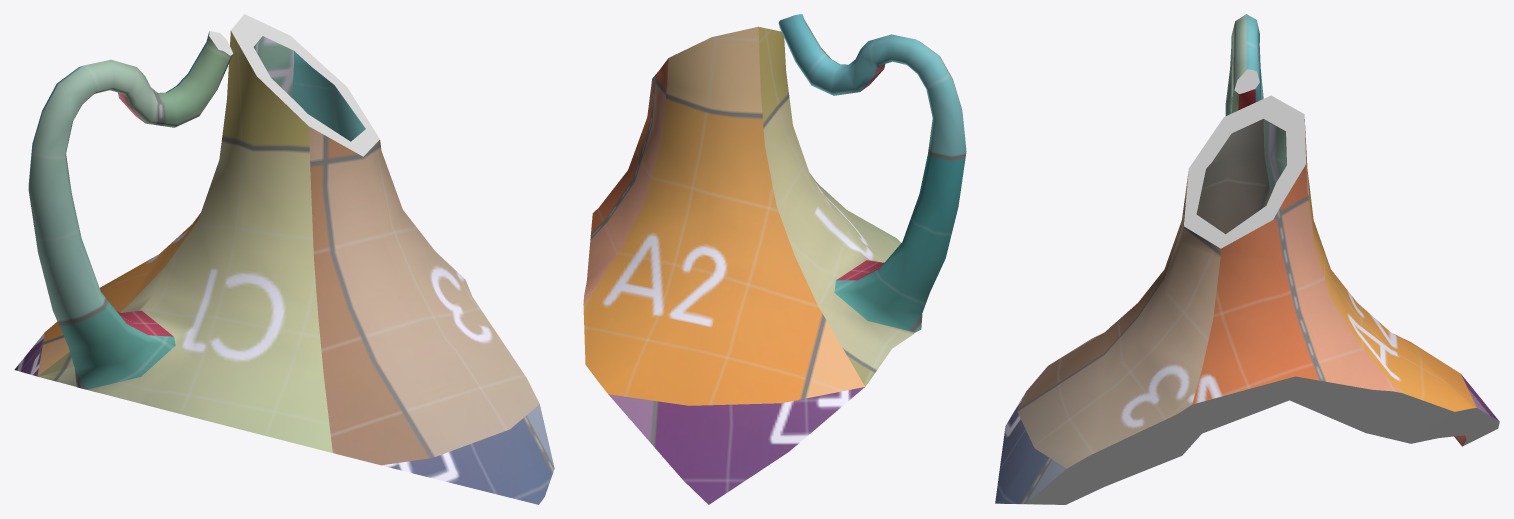
File: LongVase_SHAT_cell_009.fbx
3 views of the same model, side by side, from view 1: azimuth 30°, elevation 25°; view 2: azimuth 150°, elevation 25°; view 3: azimuth 270°, elevation 25° (orthographic). The views are drawn at different scales.
Parts seen in each view (by area): view 1: LongVase_SHAT_cell_009; view 2: LongVase_SHAT_cell_009; view 3: LongVase_SHAT_cell_009.
Boxes of the visible parts, bbox=[...] form: LongVase_SHAT_cell_009: bbox=[14, 14, 554, 504]; LongVase_SHAT_cell_009: bbox=[583, 14, 966, 504]; LongVase_SHAT_cell_009: bbox=[995, 14, 1499, 504].
Size of the model in its own units: 0.7408 by 0.7595 by 0.9075.
Materials: 2 (1 with a texture image).
